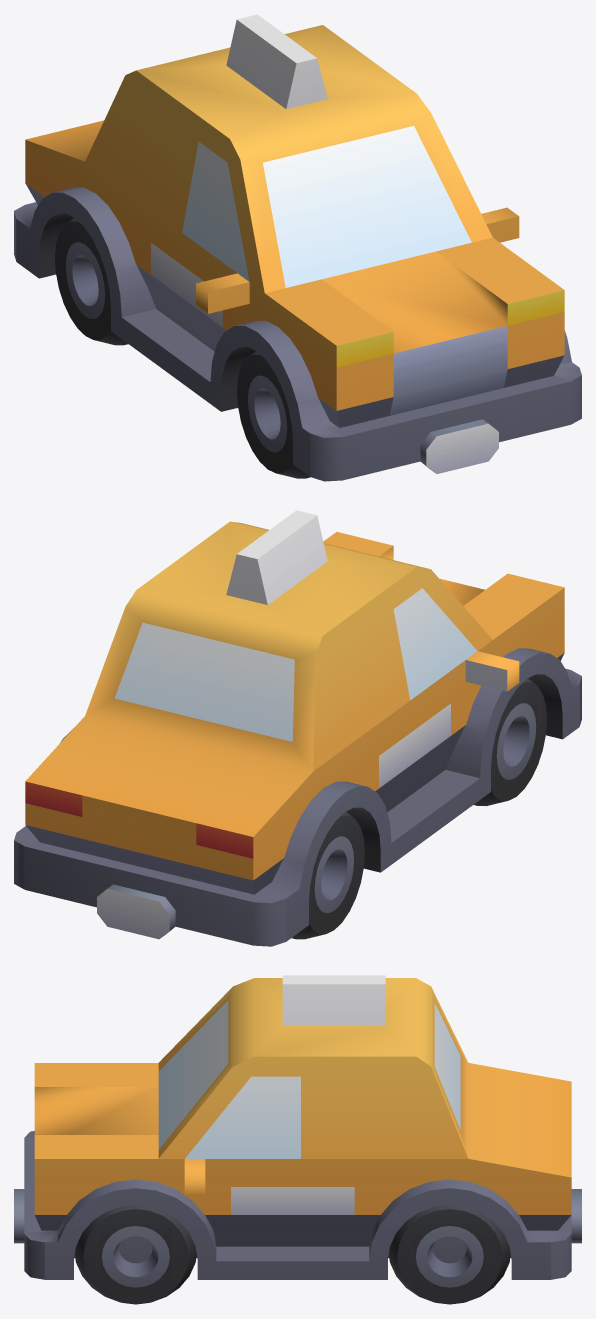
File: taxi.glb
3 renders of one model, top to bottom at view 1: azimuth 30°, elevation 25°; view 2: azimuth 150°, elevation 25°; view 3: azimuth 270°, elevation 25°, orthographic. The views are drawn at different scales.
Parts seen in each view (by area): view 1: body; view 2: body; view 3: body.
Boxes of the visible parts, x1,y1,x2,y2 form: body: [14, 14, 581, 481]; body: [14, 510, 581, 946]; body: [14, 975, 581, 1304].
Size of the model in its own units: 1.5 by 1.5 by 2.75.
1 material, 1 textured.
